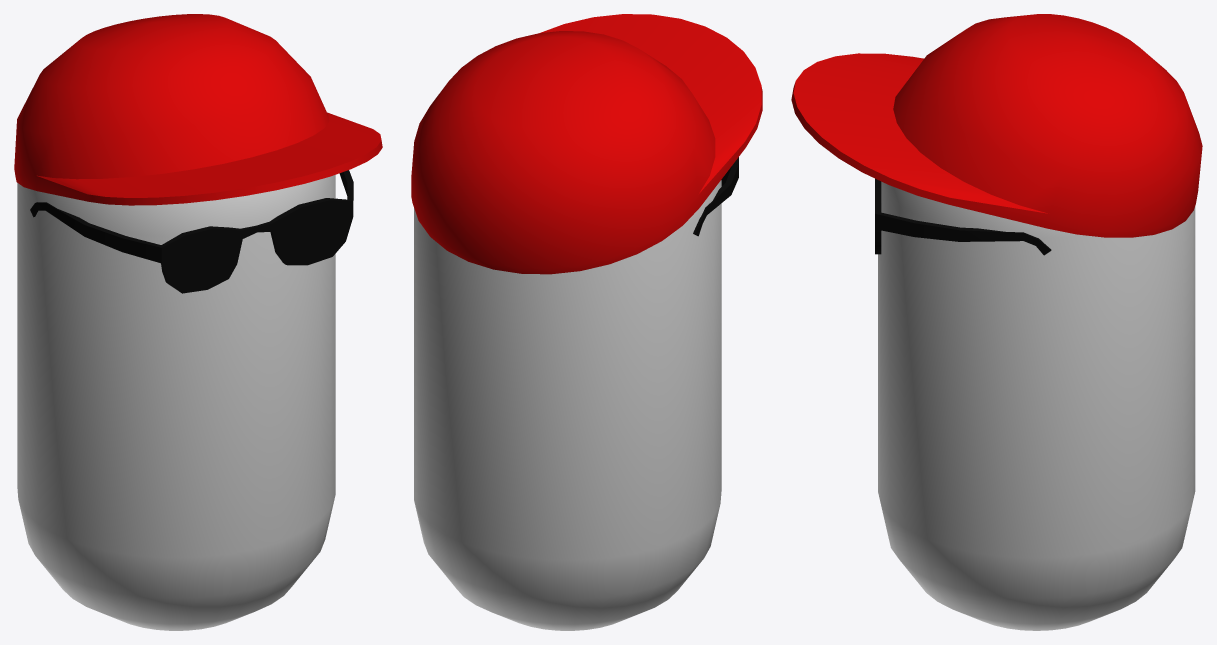
File: cool-capsule.fbx
3 views of the same model, side by side, from view 1: azimuth 30°, elevation 25°; view 2: azimuth 150°, elevation 25°; view 3: azimuth 270°, elevation 25° (orthographic). The views are drawn at different scales.
Parts seen in each view (by area): view 1: CoolCapsule; view 2: CoolCapsule; view 3: CoolCapsule.
Boxes of the visible parts, <box> form: CoolCapsule: <box>14,14,382,630</box>; CoolCapsule: <box>411,14,762,630</box>; CoolCapsule: <box>791,14,1202,630</box>.
Size of the model in its own units: 102 by 200 by 129.
